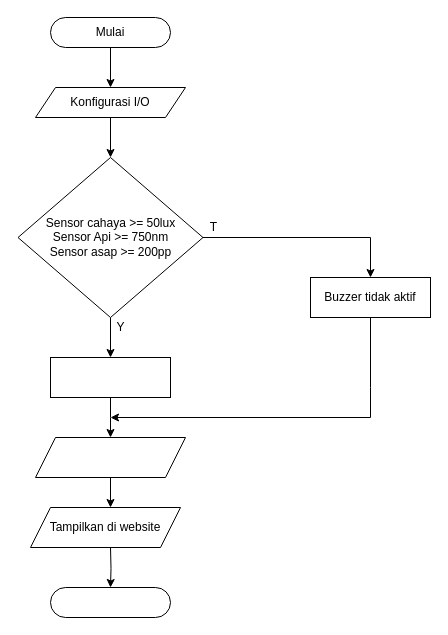
This 448x635 diagram has some shape labels left out. The shapes that lost their labels are listed below. From the top down, each one's centre as x and y in pixels, then its label:
point (110, 377): Buzzer Aktif
point (110, 457): Kirim ke database
point (110, 602): Selesai
